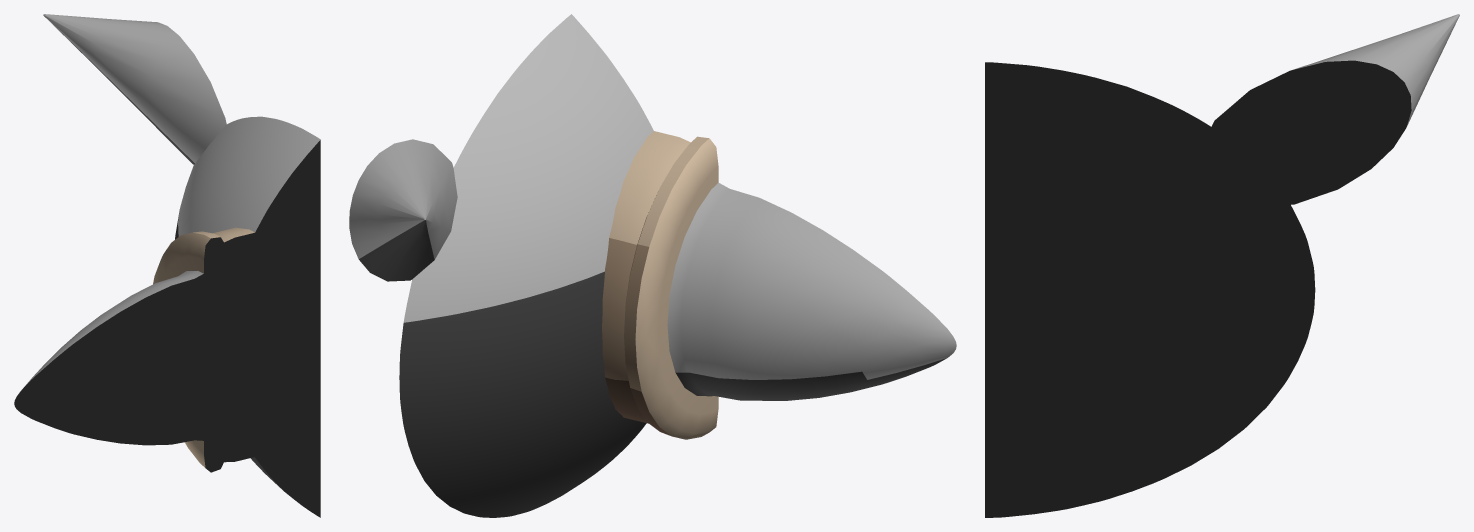
The model's file is mace_tl.glb.
The picture shows the model from 3 angles, left to right: view 1: azimuth 30°, elevation 25°; view 2: azimuth 150°, elevation 25°; view 3: azimuth 270°, elevation 25°; orthographic projection. The views are drawn at different scales.
Parts seen in each view (by area): view 1: ball.001, spike2.001, collar2.001, short1.001; view 2: ball.001, spike2.001, collar2.001, short1.001; view 3: ball.001, short1.001.
Part boxes in pixels (x1,y1,x2,y2): ball.001: [175, 116, 320, 517]; spike2.001: [14, 237, 309, 447]; collar2.001: [153, 226, 301, 472]; short1.001: [43, 14, 226, 164]; ball.001: [399, 14, 653, 517]; spike2.001: [667, 182, 956, 400]; collar2.001: [602, 131, 718, 439]; short1.001: [349, 139, 457, 281]; ball.001: [985, 62, 1315, 517]; short1.001: [1196, 14, 1459, 207].
Size of the model in its own units: 14.11 by 16.7 by 15.72.
